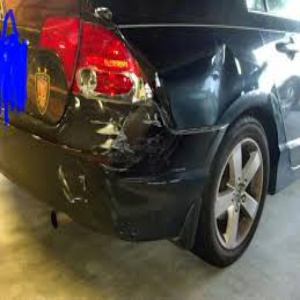bumper_scratch: (47, 164, 118, 215)
